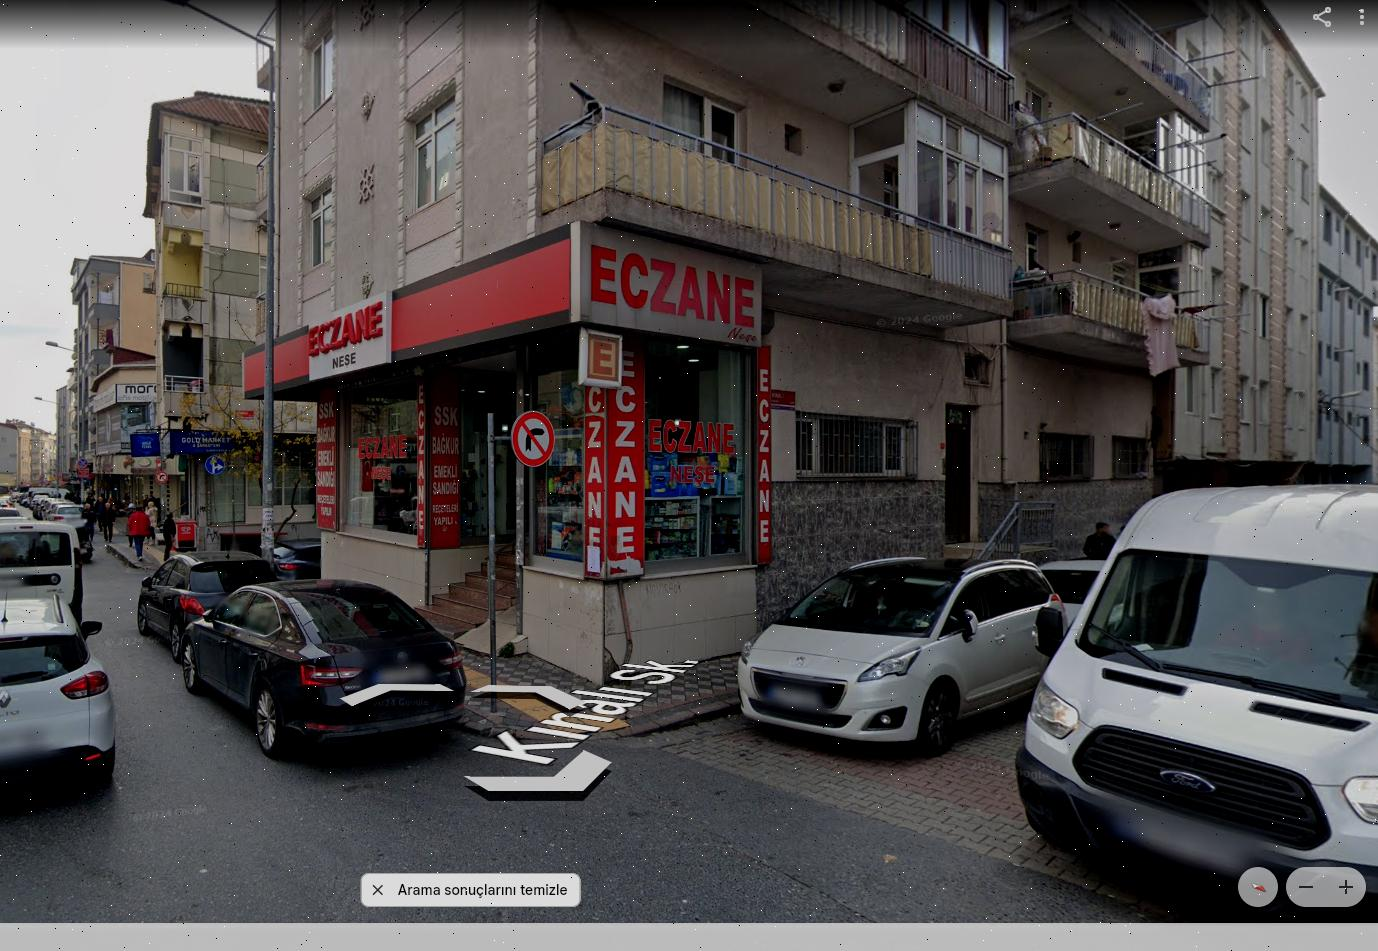leftturnsareforbidden: (157, 468, 168, 484)
rightturnsareforbidden: (513, 411, 559, 467)
